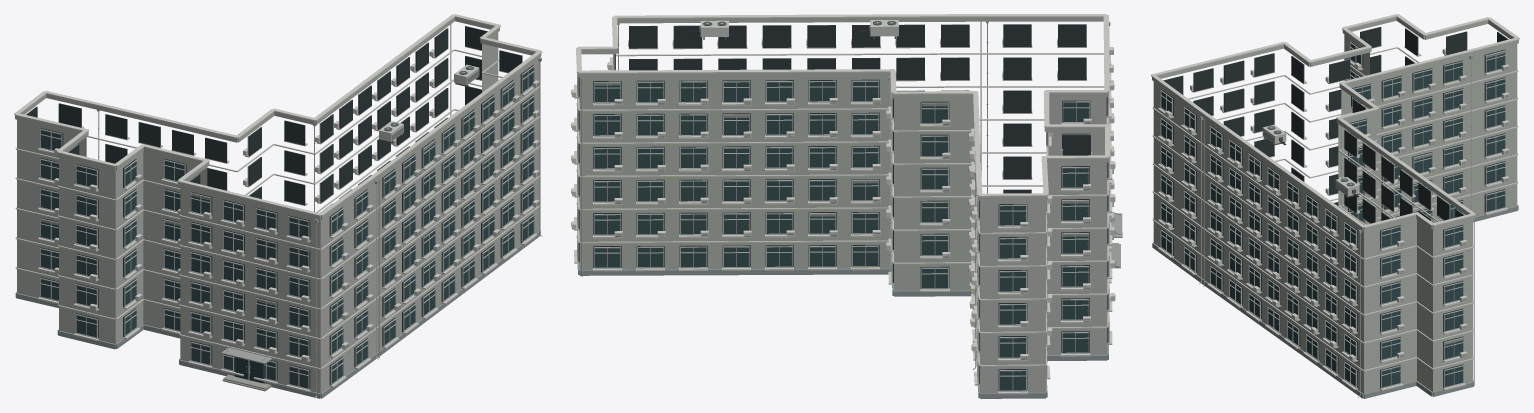
Rendered from osm_way_225251648.glb.
3 renders of one model, left to right at view 1: azimuth 30°, elevation 25°; view 2: azimuth 150°, elevation 25°; view 3: azimuth 270°, elevation 25°, orthographic. The views are drawn at different scales.
Parts seen in each view (by area): view 1: Windows and facade details | 35, Architecture | 35, Roof services | 35, EXTERIOR::osm_way_225251648::rainwater and roof service deta, EXTERIOR::osm_way_225251648::inferred entry doors canopy and; view 2: Architecture | 35, Windows and facade details | 35, Roof services | 35, EXTERIOR::osm_way_225251648::rainwater and roof service deta, EXTERIOR::osm_way_225251648::native pane seals and hardware; view 3: Architecture | 35, Windows and facade details | 35, Roof services | 35, EXTERIOR::osm_way_225251648::rainwater and roof service deta.
Boxes of the visible parts, x1,y1,x2,y2 form: Windows and facade details | 35: (25,24,539,391); Architecture | 35: (15,17,541,398); Roof services | 35: (14,14,542,216); EXTERIOR::osm_way_225251648::rainwater and roof service deta: (97,57,542,398); EXTERIOR::osm_way_225251648::inferred entry doors canopy and: (221,344,272,391); Architecture | 35: (577,17,1109,398); Windows and facade details | 35: (571,21,1115,394); Roof services | 35: (576,14,1110,196); EXTERIOR::osm_way_225251648::rainwater and roof service deta: (617,20,1110,369); EXTERIOR::osm_way_225251648::native pane seals and hardware: (595,83,1088,381); Architecture | 35: (1152,17,1518,398); Windows and facade details | 35: (1158,27,1509,390); Roof services | 35: (1151,14,1519,228); EXTERIOR::osm_way_225251648::rainwater and roof service deta: (1199,55,1472,397).
Bounding box in the file's own units: 52.47 × 20.58 × 38.32.
